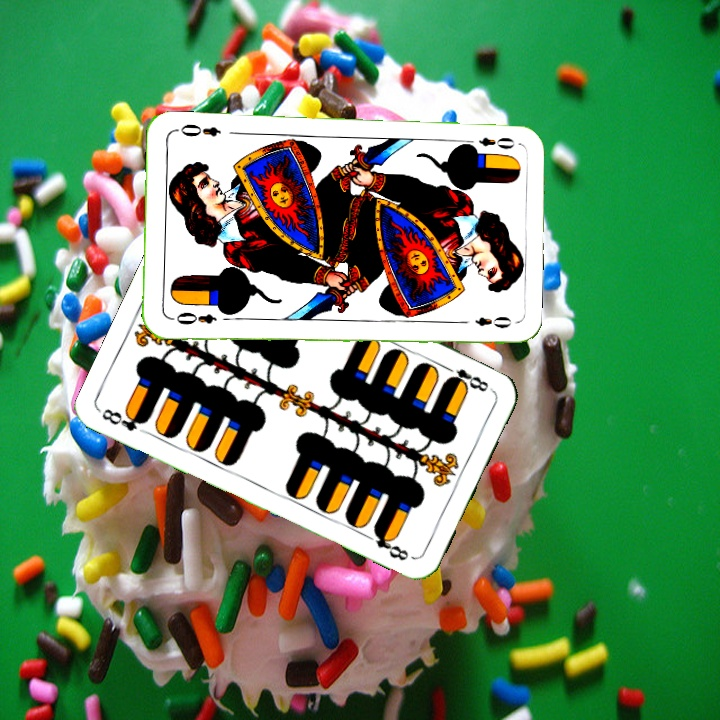E8: (97, 404, 153, 438), (439, 361, 494, 395)
EO: (461, 133, 518, 153), (166, 308, 219, 327)
